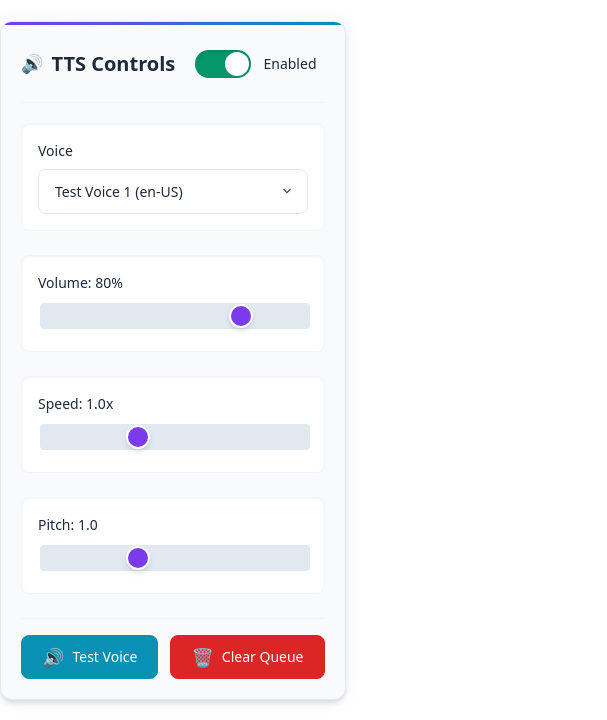
Test: TTSControls › cancels queue clearing
Note: Show confirmation
Click the button "🗑️ Clear Queue".
click(247, 656)  # box [170,634,324,678]
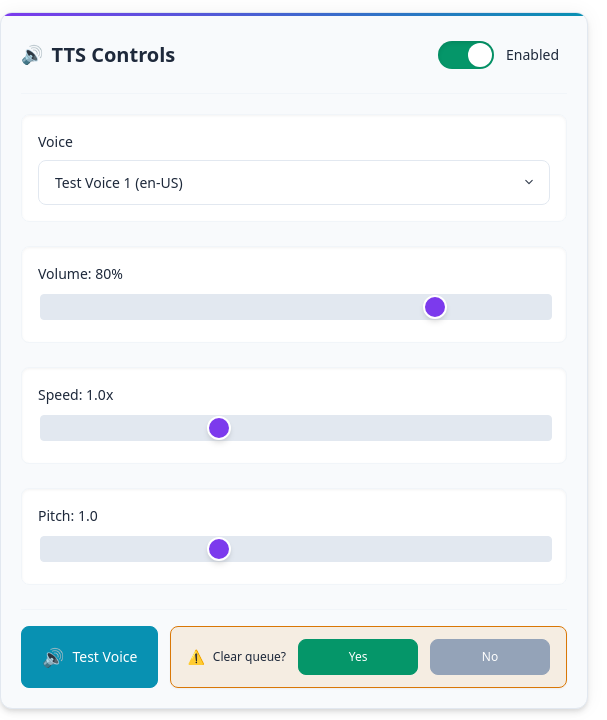
Note: Cancel clearing
Click the button "No".
click(490, 656)  # box [430,638,550,674]
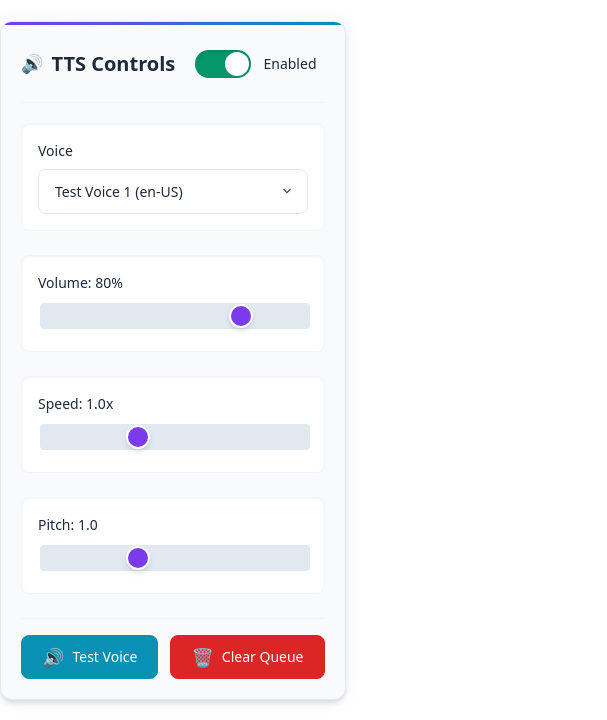
Expected: the text "Clear queue?" is not shown
Expected: the button "🗑️ Clear Queue" is shown, [170,634,324,678]
